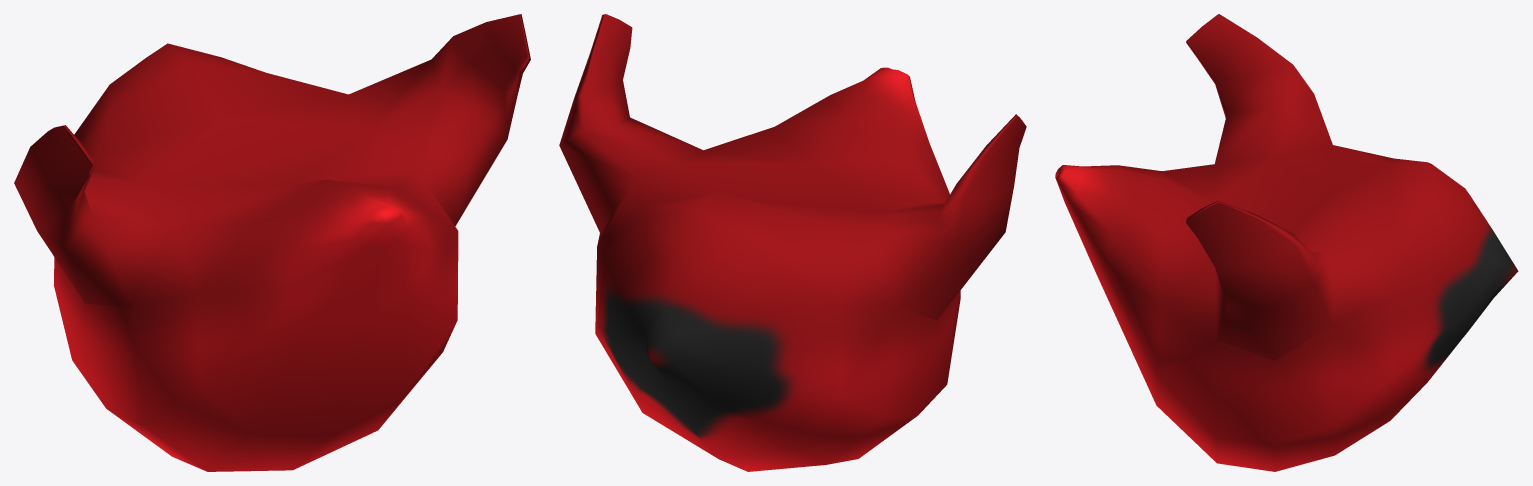
Rendered from Big_Bird_Model.obj.
The picture shows the model from 3 angles, left to right: view 1: azimuth 30°, elevation 25°; view 2: azimuth 150°, elevation 25°; view 3: azimuth 270°, elevation 25°; orthographic projection. The views are drawn at different scales.
Parts seen in each view (by area): view 1: Bird_Phat Birds; view 2: Bird_Phat Birds; view 3: Bird_Phat Birds.
Part boxes in pixels (x1,y1,x2,y2): Bird_Phat Birds: [14, 14, 530, 471]; Bird_Phat Birds: [559, 14, 1026, 471]; Bird_Phat Birds: [1055, 14, 1518, 471].
Size of the model in its own units: 26.91 by 23.31 by 27.88.
